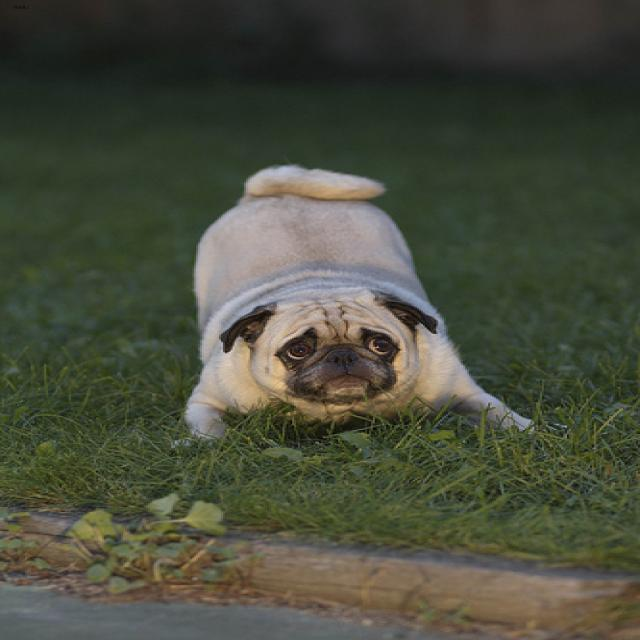dog-pug: (165, 156, 559, 449)
